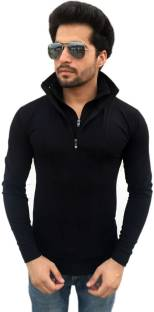Tshirts: (3, 61, 153, 286)
